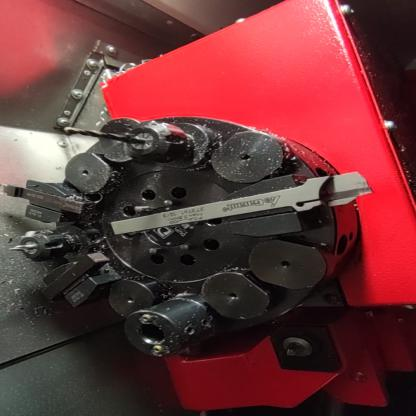bit: (105, 164, 387, 242), (30, 247, 131, 311), (0, 173, 106, 227)
